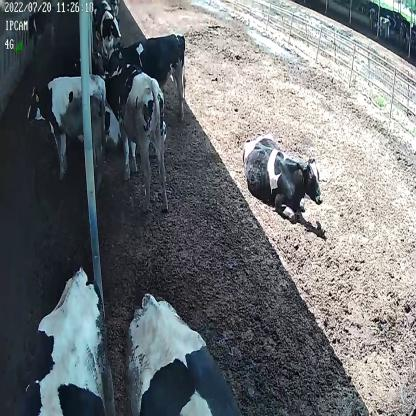cow: (106, 64, 171, 209), (28, 75, 107, 184), (241, 134, 326, 225), (106, 29, 189, 122), (92, 0, 121, 60)
